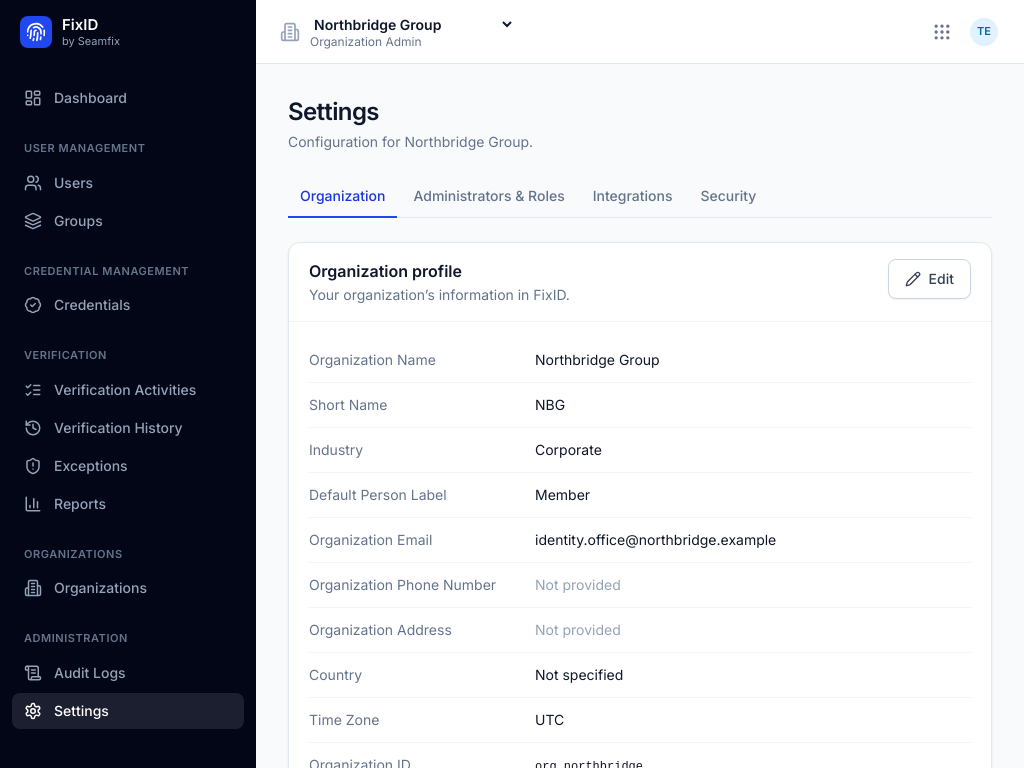
Scenario: Administrators & Roles › lists administrators with Full Name, Email, Role, Status and Actions, with search and filters
Later steps or results of the test are not shown.
Step 1. Click the tab "Administrators & Roles" → (489, 197), box [401, 176, 577, 218]
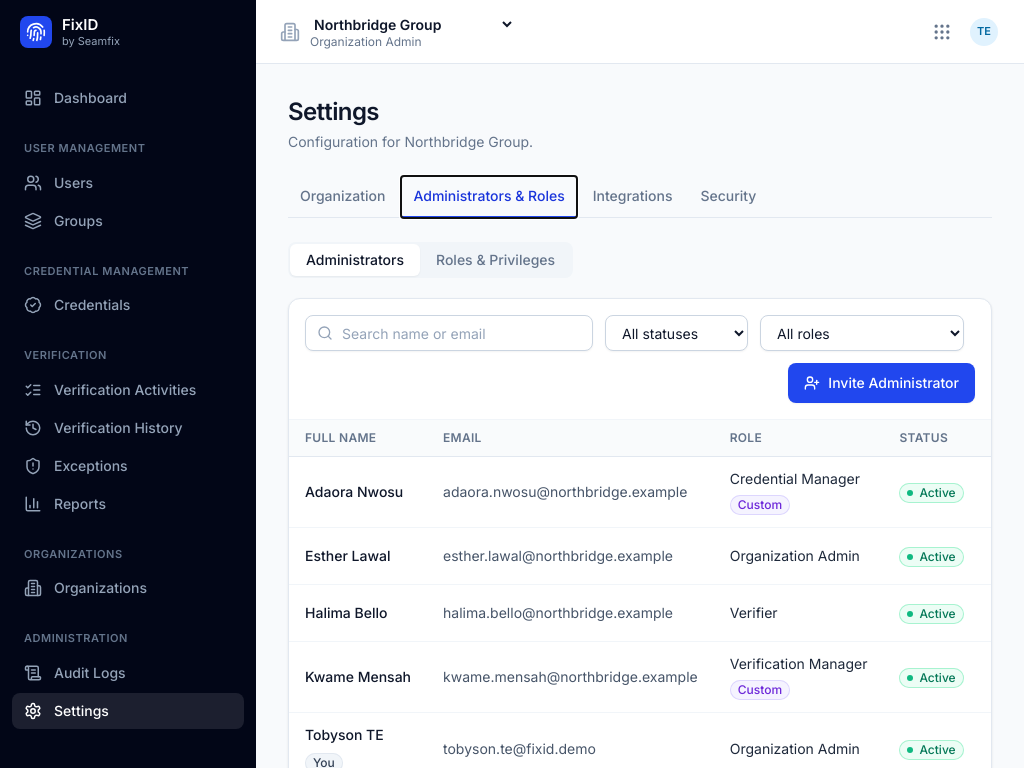
Expected: the text "Kwame Mensah" is shown, [305, 667, 411, 687]
Expected: the text "Tobyson TE" shows "Organization Admin", [730, 740, 860, 757]
Expected: the text "Halima Bello" shows "Verifier", [730, 604, 778, 621]
Step 2. Select "Invited" in the dropdown named "Status" → (676, 333), box [605, 315, 748, 351]
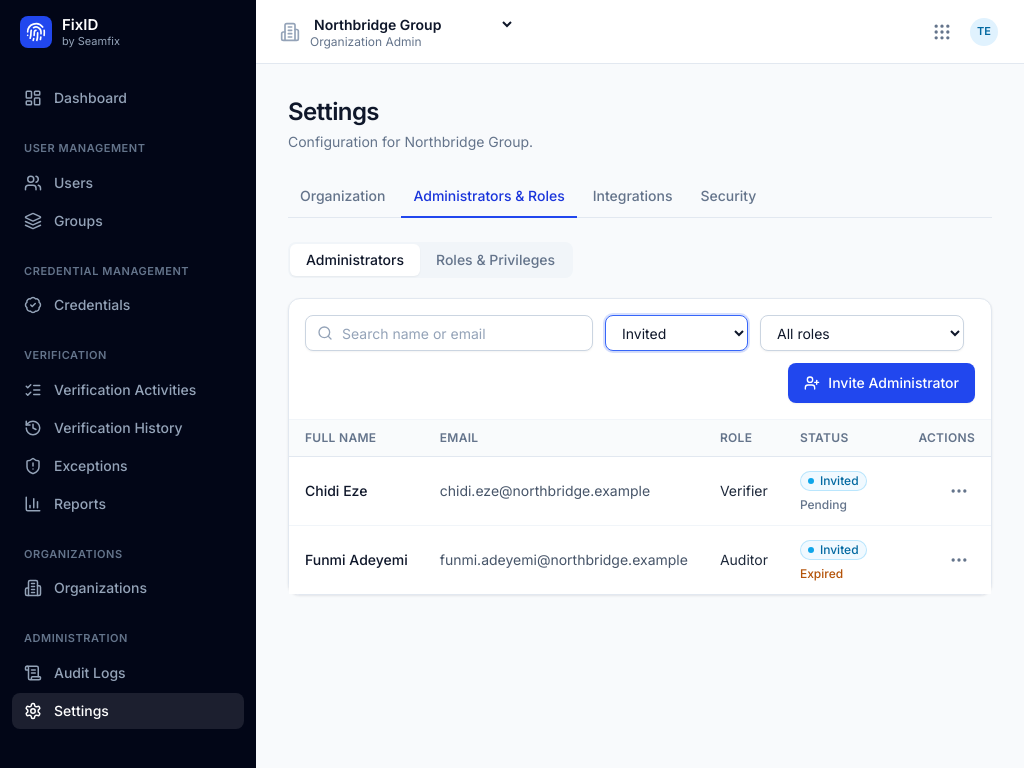
Expected: the text "Funmi Adeyemi" is shown, [305, 550, 408, 570]
Expected: the text "Kwame Mensah" is gone
Step 3. Select "All statuses" in the dropdown named "Status" → (676, 333), box [605, 315, 748, 351]
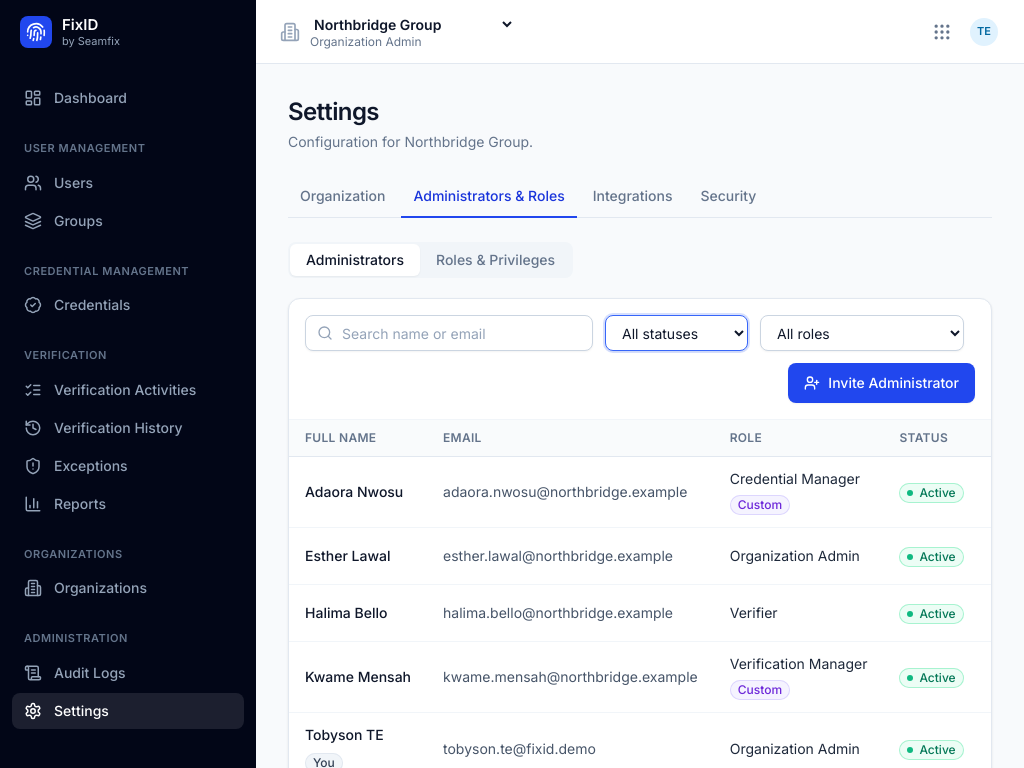
Step 4. Type "halima" into the search field named "Search administrators" → (449, 333), box [305, 315, 593, 351]
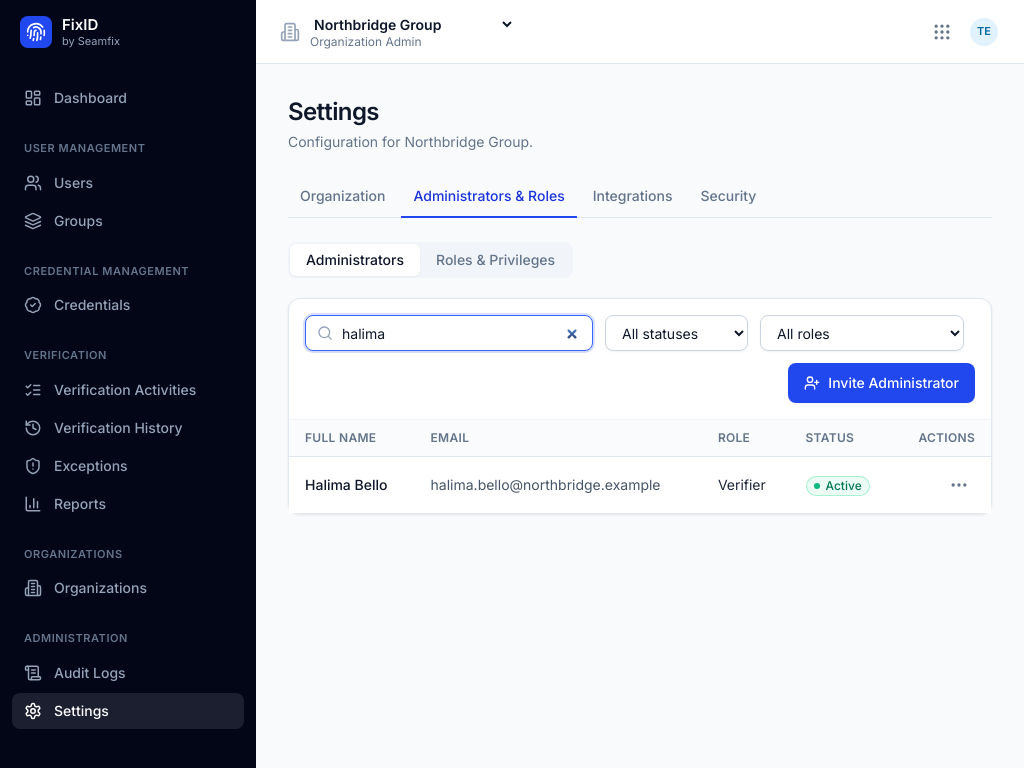
Expected: the number of rows is 2, [289, 420, 991, 456]; [289, 456, 991, 513]
